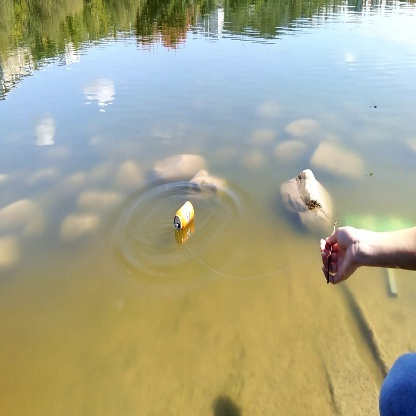bottle: (174, 197, 203, 236)
